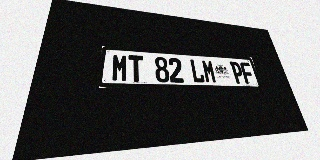2: (168, 57, 184, 83)
8: (154, 56, 170, 82)
F: (239, 62, 256, 84)
L: (189, 59, 205, 83)
M: (111, 54, 128, 82), (201, 60, 217, 83)
P: (229, 61, 245, 84)
T: (128, 55, 144, 82)
